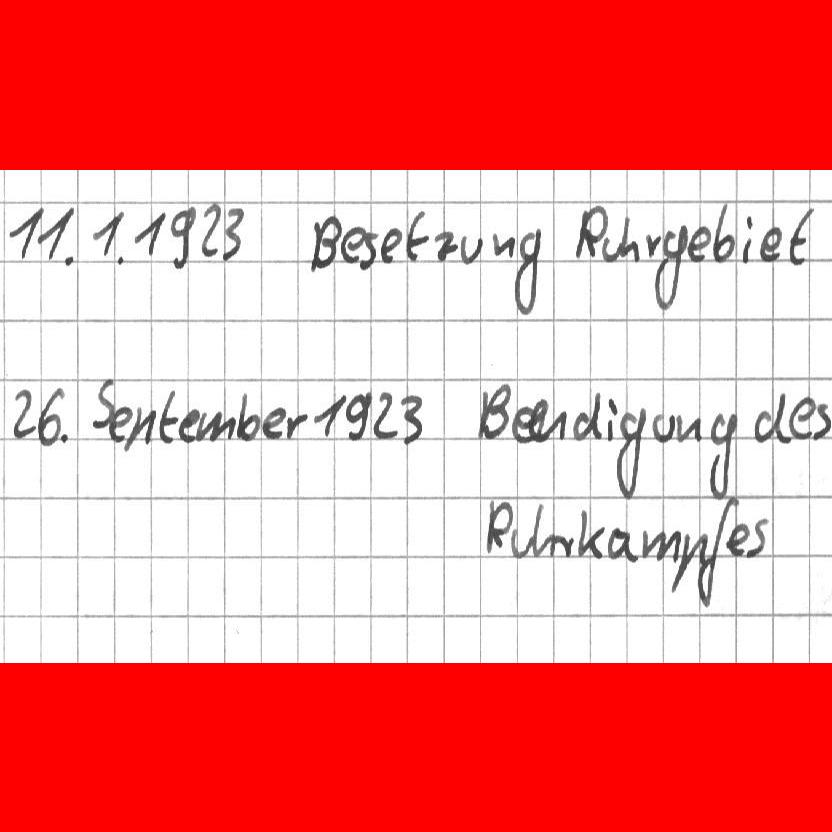Char: (652, 222, 688, 312), (697, 497, 725, 606), (615, 406, 647, 500), (512, 224, 542, 317), (667, 530, 709, 596), (707, 409, 737, 500), (754, 388, 790, 446), (6, 205, 45, 258), (306, 213, 341, 272), (38, 205, 75, 257), (478, 383, 511, 441), (168, 204, 196, 270), (576, 203, 607, 261), (36, 385, 65, 447), (309, 391, 346, 439), (133, 209, 169, 258), (122, 403, 156, 454), (570, 389, 603, 441), (483, 497, 513, 554), (788, 205, 815, 266), (712, 200, 738, 263), (91, 208, 124, 256), (234, 390, 262, 442), (641, 525, 680, 562), (198, 201, 223, 258), (220, 205, 245, 262), (344, 390, 373, 439), (11, 386, 37, 440), (398, 393, 425, 445), (373, 389, 401, 439), (578, 508, 606, 558), (196, 410, 237, 444), (89, 377, 115, 430), (786, 393, 816, 438), (745, 515, 775, 559), (532, 500, 555, 557), (606, 525, 639, 563), (158, 388, 179, 446), (406, 208, 428, 261), (619, 214, 642, 262), (535, 408, 568, 441), (341, 224, 367, 264), (686, 224, 712, 263), (379, 224, 402, 265), (529, 398, 550, 442), (259, 406, 286, 440), (108, 404, 132, 442), (177, 407, 201, 444), (431, 228, 457, 262), (723, 522, 749, 556), (489, 229, 517, 260), (758, 226, 782, 262), (649, 411, 676, 443), (676, 411, 703, 442), (510, 522, 533, 558), (459, 233, 484, 265), (811, 400, 831, 440), (741, 213, 756, 266), (512, 404, 532, 443), (283, 411, 308, 442), (359, 229, 378, 269), (600, 234, 621, 265), (555, 529, 576, 559), (606, 395, 617, 440), (645, 231, 662, 258), (59, 429, 72, 444), (115, 254, 130, 265), (62, 255, 75, 267)
